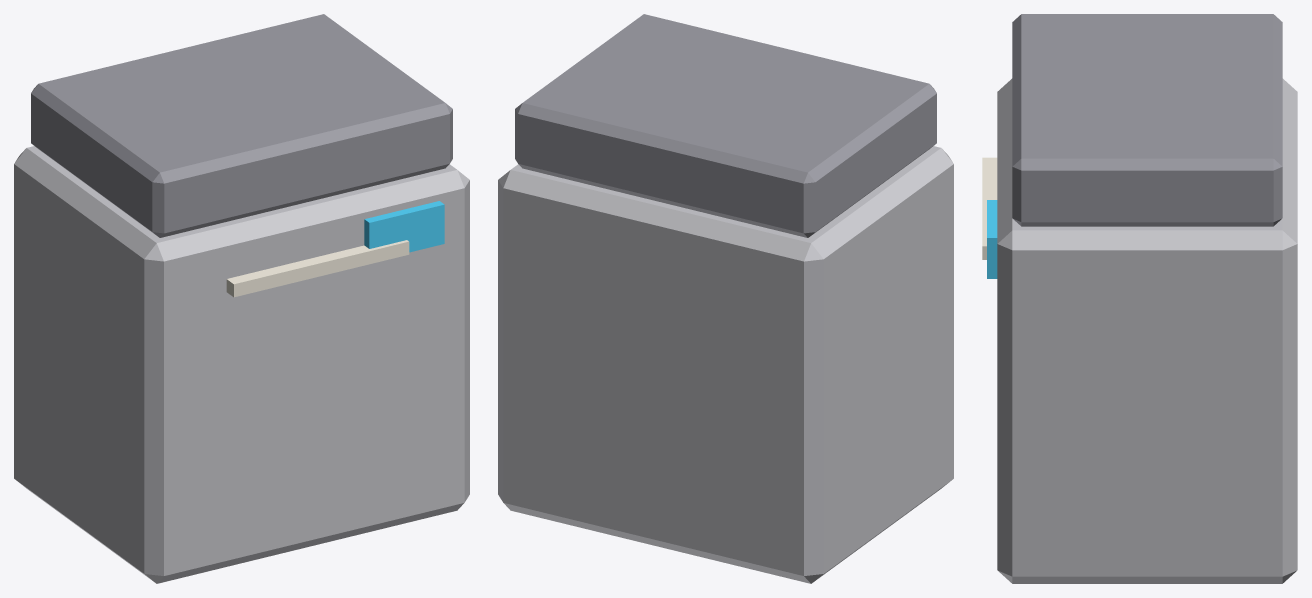
File: OfficePrinter.fbx
The picture shows the model from 3 angles, left to right: view 1: azimuth 30°, elevation 25°; view 2: azimuth 150°, elevation 25°; view 3: azimuth 270°, elevation 25°; orthographic projection. The views are drawn at different scales.
Visible parts, largest first — view 1: OfficePrinter; view 2: OfficePrinter; view 3: OfficePrinter.
Boxes of the visible parts, x1=… form: OfficePrinter: x1=14, y1=14, x2=469, y2=583; OfficePrinter: x1=498, y1=14, x2=953, y2=583; OfficePrinter: x1=982, y1=14, x2=1297, y2=583.
Size of the model in its own units: 2.6 by 3.1 by 2.1.
Materials: 1 (1 with a texture image).
